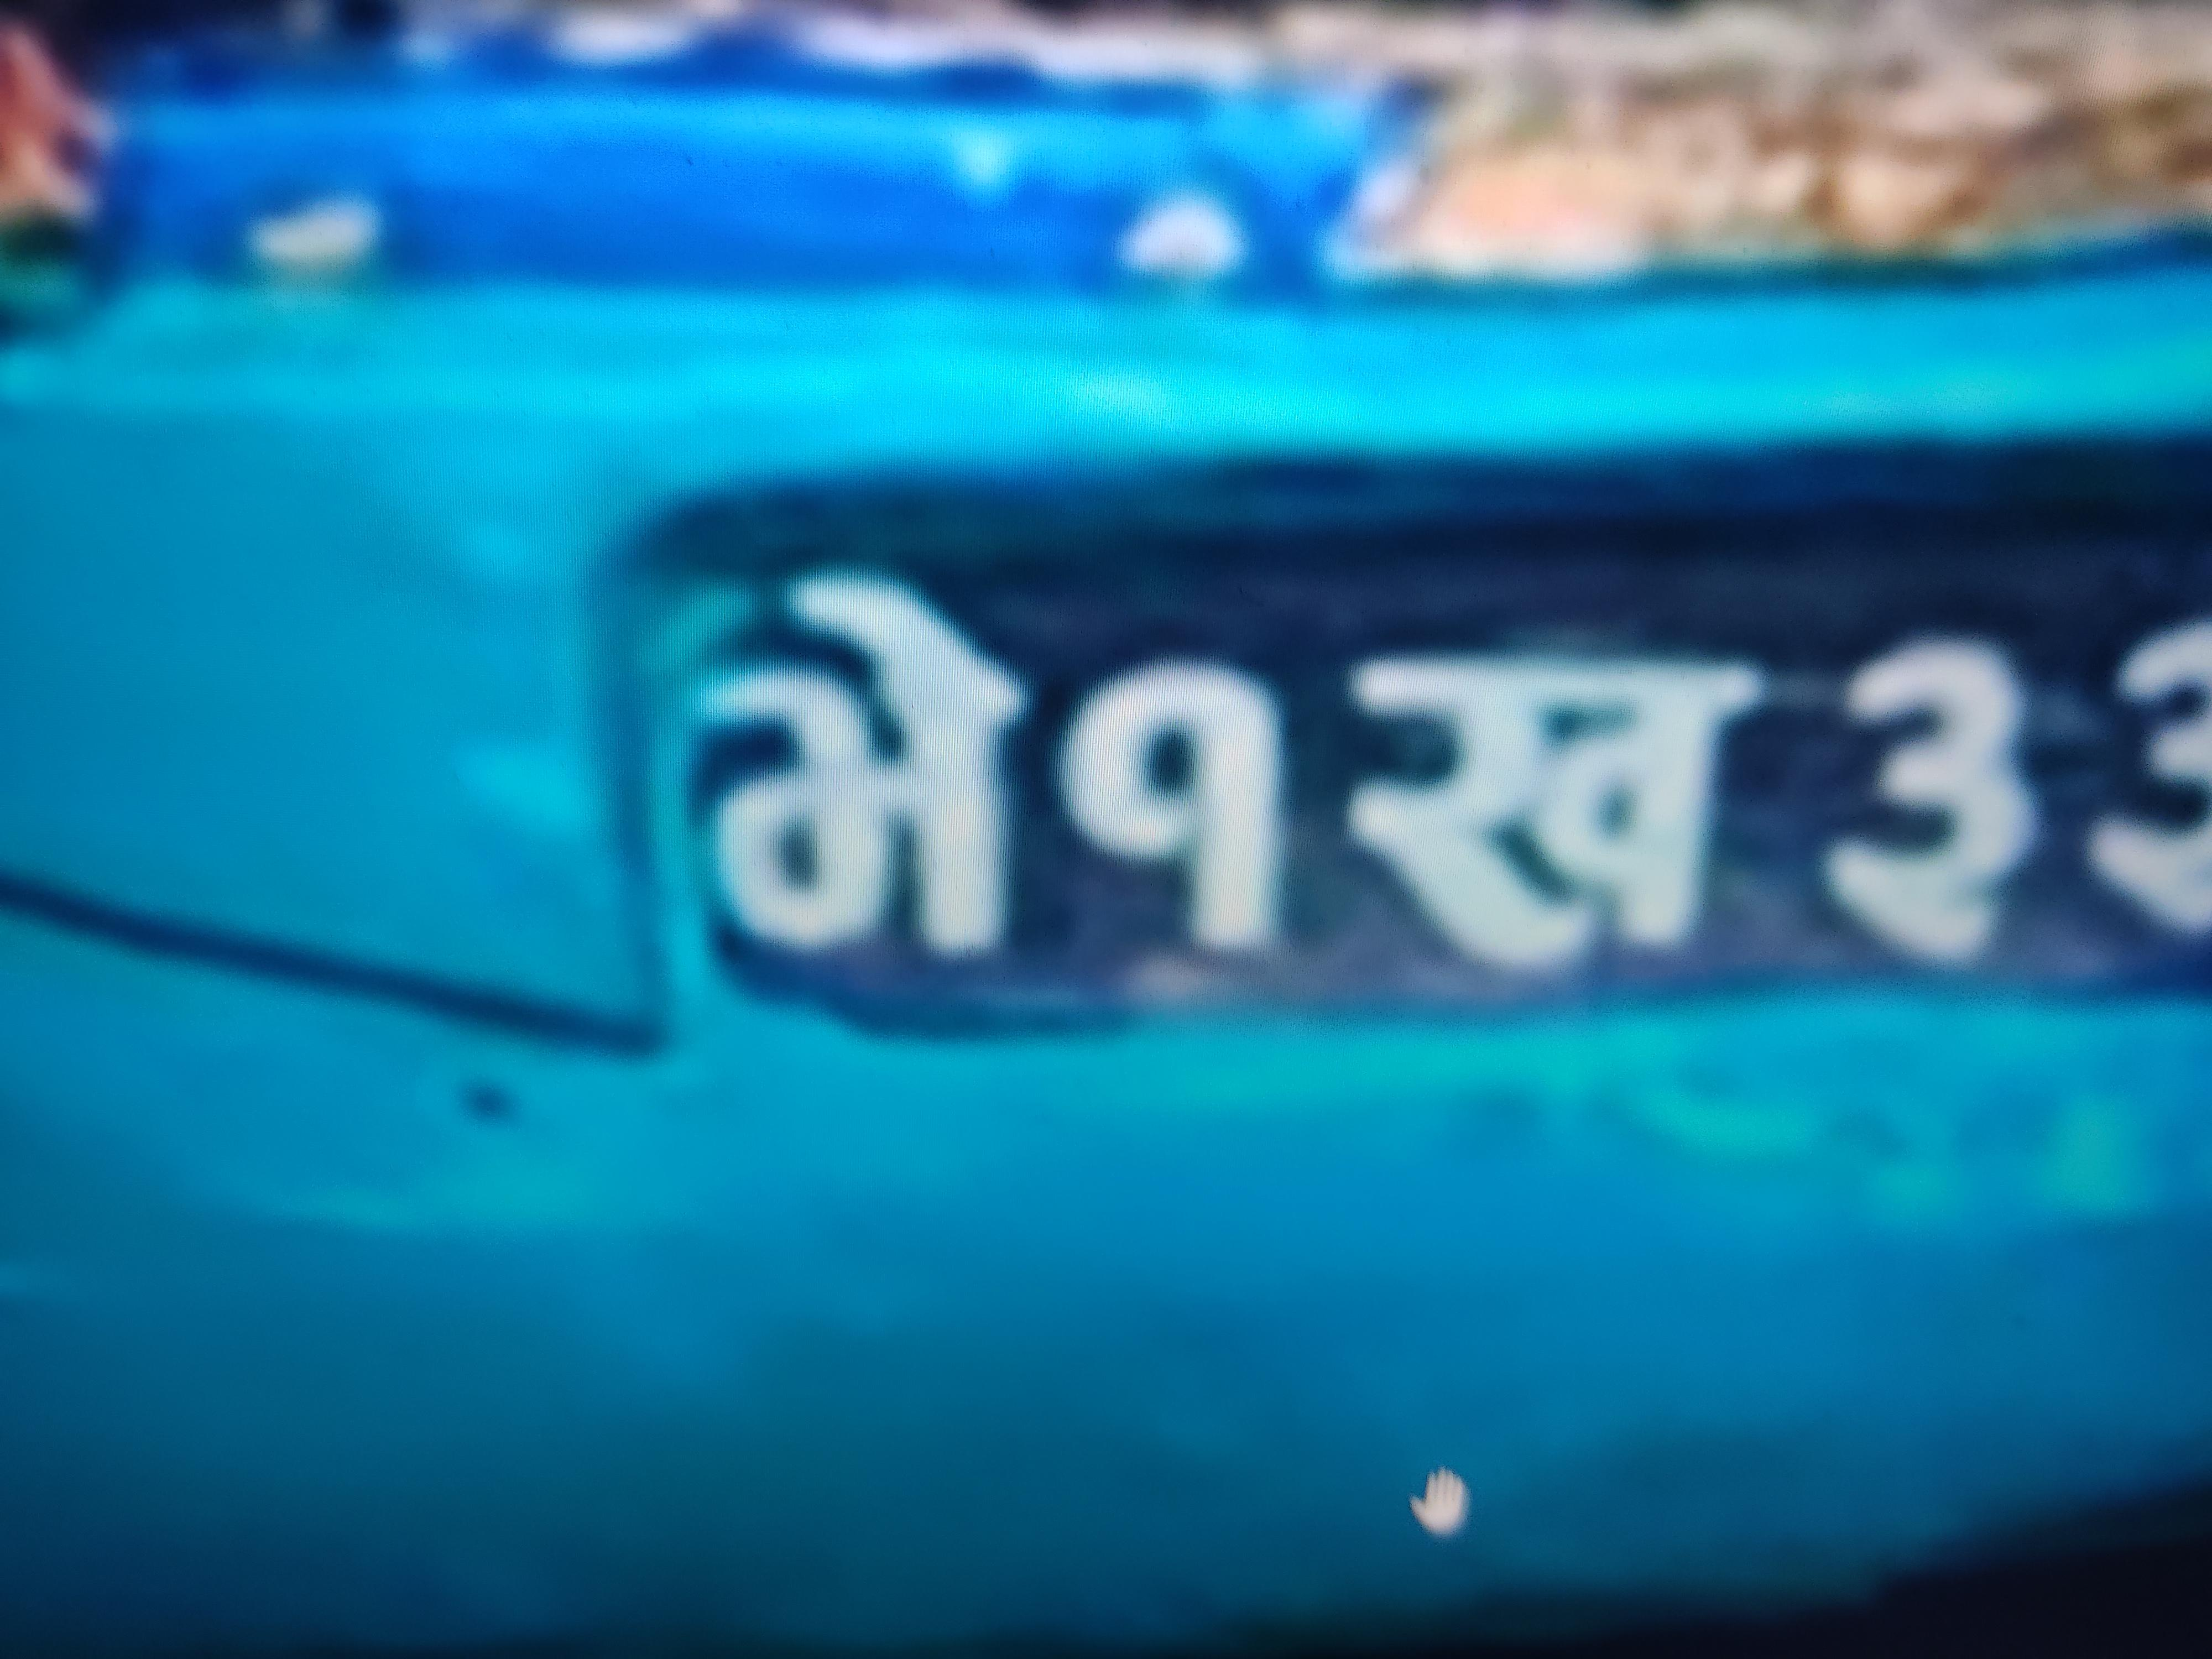1: (1024, 574, 1361, 1007)
3: (1803, 573, 2064, 990)
kha: (1360, 576, 1729, 974)
me: (648, 504, 1042, 1032)
